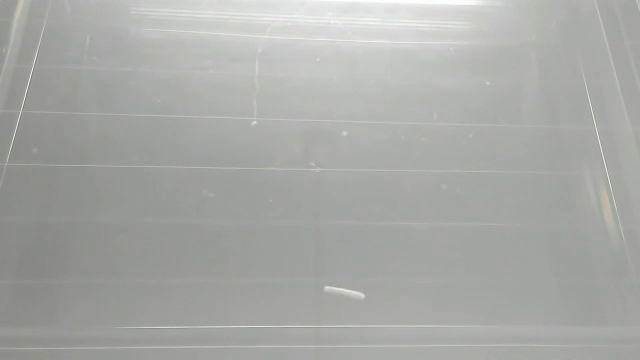alpha: (320, 282, 369, 304)
